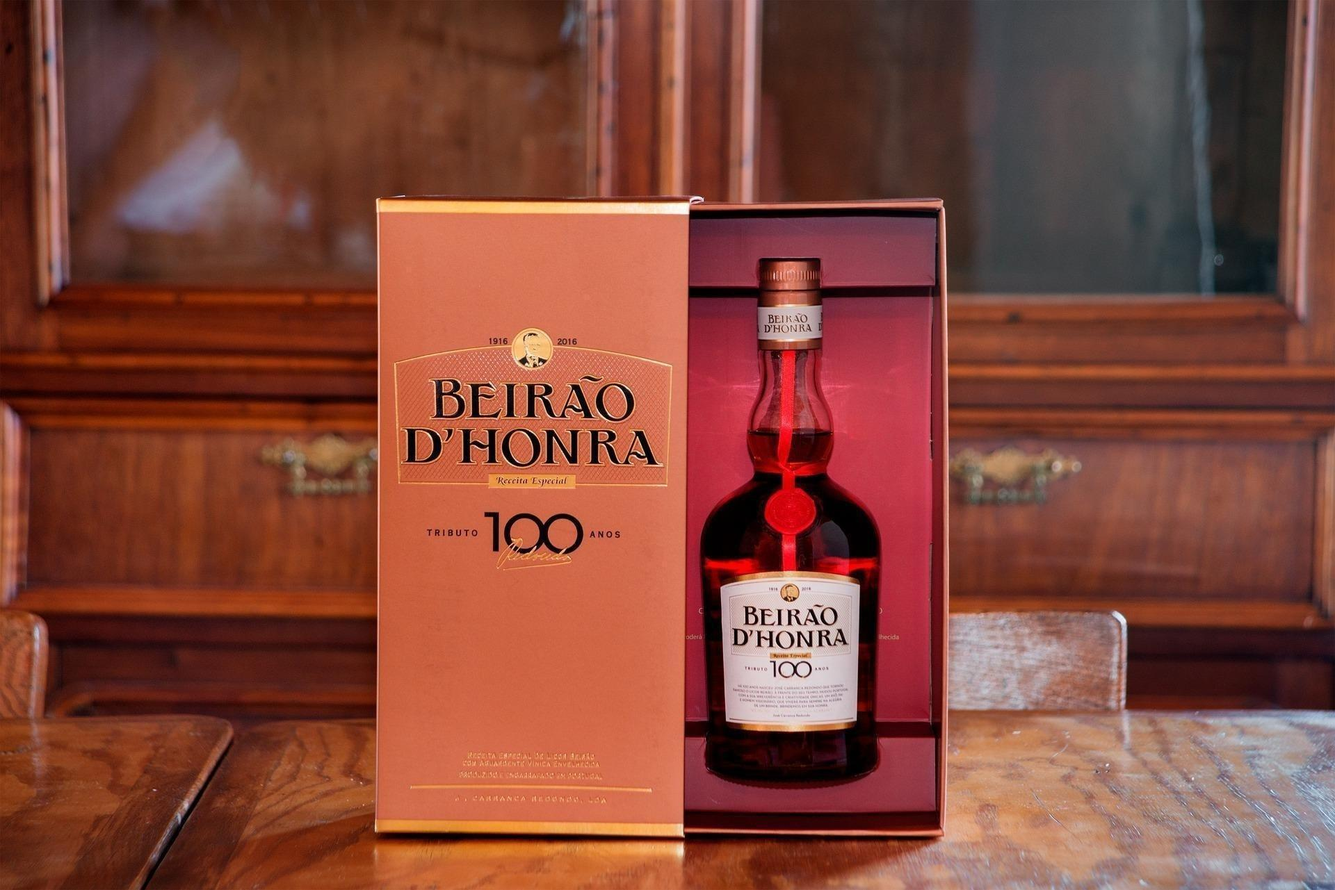bottle-glass: (695, 248, 888, 795)
